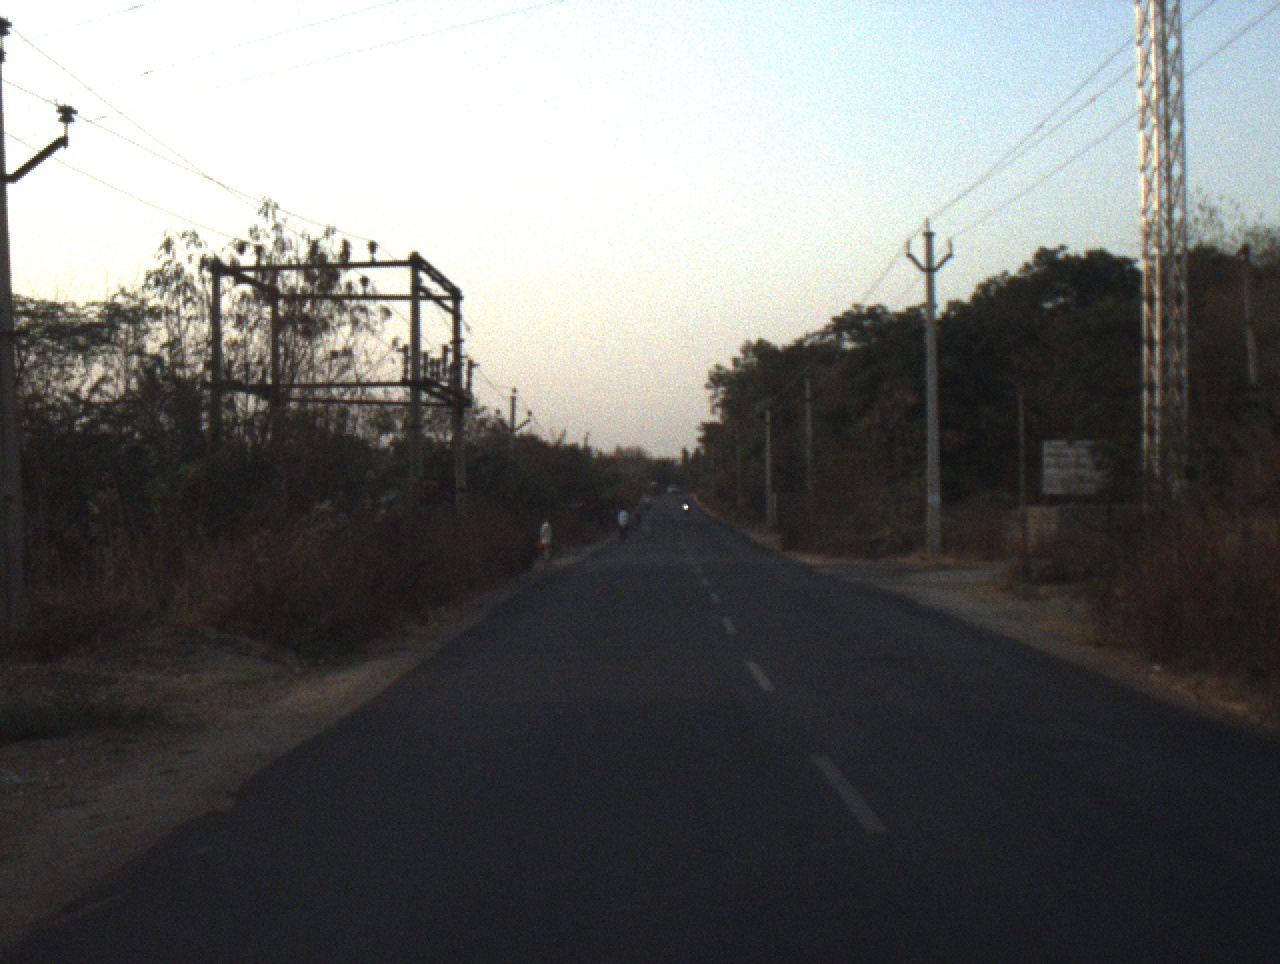bicycle: (619, 524, 629, 544)
car: (669, 481, 682, 496)
person: (536, 507, 556, 571)
rider: (616, 505, 628, 532)
vehicle fallback: (640, 495, 654, 512), (681, 495, 692, 511), (650, 478, 658, 496)
